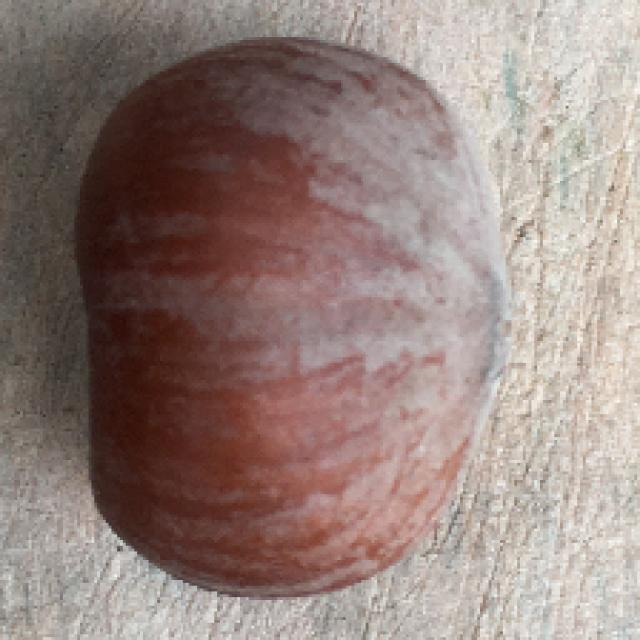qualityHazelnut: (66, 32, 513, 596)
